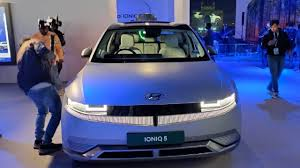Honda Ioniq: (61, 14, 247, 165)
